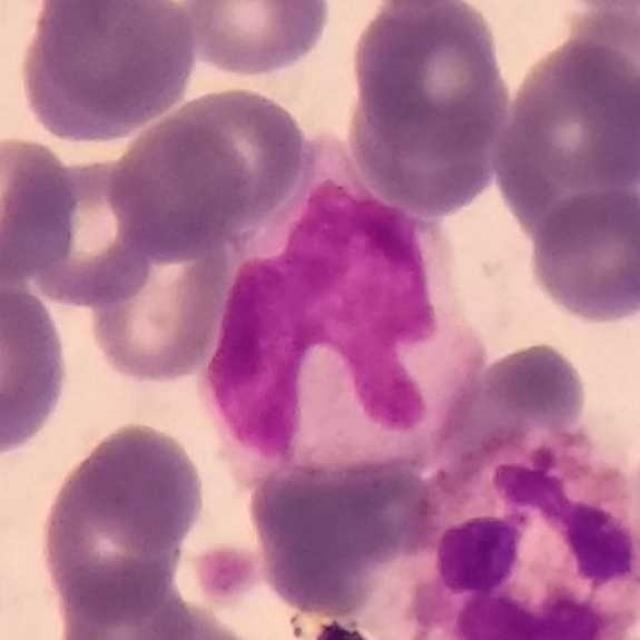Monocyte: (204, 143, 493, 474)
Neutrophil: (400, 429, 640, 640)
Platelets: (181, 526, 259, 604), (296, 617, 374, 639)
RBC: (32, 416, 210, 627), (246, 456, 441, 610), (81, 206, 243, 388), (346, 0, 513, 160), (489, 36, 640, 210), (146, 82, 312, 238), (18, 151, 169, 314), (28, 0, 207, 135), (105, 110, 256, 261), (525, 184, 640, 327), (44, 574, 285, 640), (0, 275, 76, 463), (0, 127, 82, 296), (172, 0, 335, 82), (559, 5, 639, 140), (476, 339, 590, 432)
